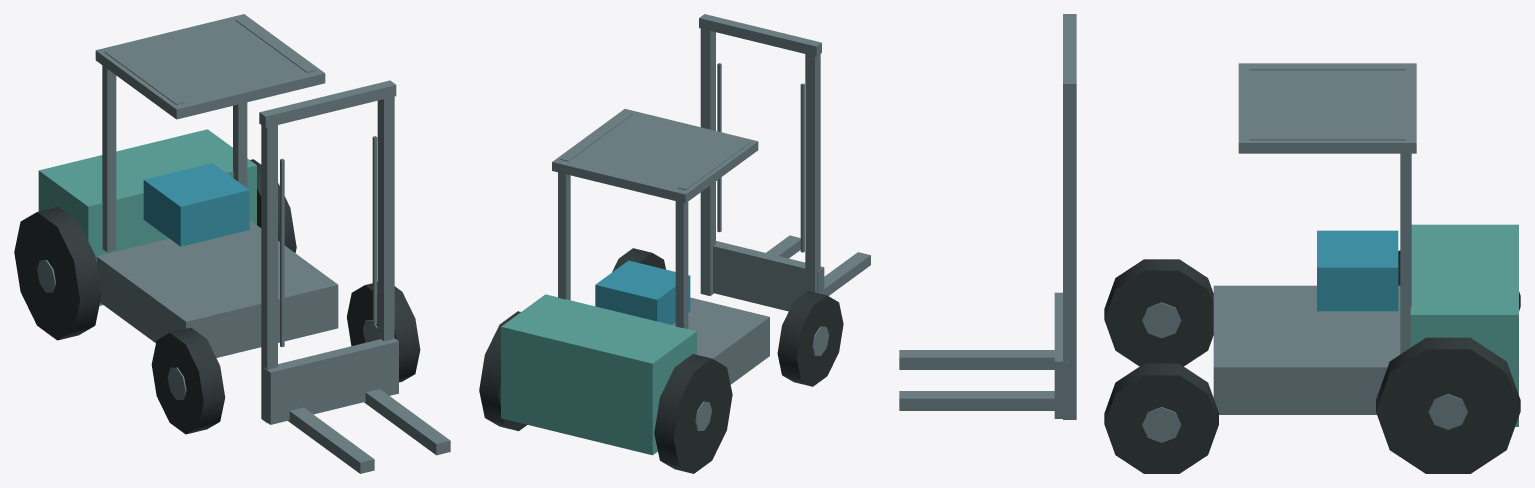
The model's file is forklift.source.glb.
3 renders of one model, left to right at view 1: azimuth 30°, elevation 25°; view 2: azimuth 150°, elevation 25°; view 3: azimuth 270°, elevation 25°, orthographic. The views are drawn at different scales.
Parts seen in each view (by area): view 1: forklift-body-mesh, forklift-tire-mesh (×4), forklift-guard-roof-mesh, forklift-counterweight-mesh, forklift-carriage-bar-mesh, forklift-operator-seat-mesh, forklift-mast-rail-0.49-mesh, forklift-mast-rail--0.49-mesh, forklift-guard-post--0.55-mesh, forklift-mast-crossbar-mesh, forklift-fork-0.32-mesh, forklift-fork--0.32-mesh (+6 smaller); view 2: forklift-counterweight-mesh, forklift-tire-mesh (×4), forklift-guard-roof-mesh, forklift-carriage-bar-mesh, forklift-body-mesh, forklift-operator-seat-mesh, forklift-mast-rail--0.49-mesh, forklift-mast-rail-0.49-mesh, forklift-mast-crossbar-mesh, forklift-guard-post--0.55-mesh, forklift-guard-post-0.55-mesh, forklift-fork--0.32-mesh (+5 smaller); view 3: forklift-tire-mesh (×3), forklift-body-mesh, forklift-guard-roof-mesh, forklift-counterweight-mesh, forklift-operator-seat-mesh, forklift-mast-rail-0.49-mesh, forklift-hub-mesh (×3), forklift-fork--0.32-mesh, forklift-fork-0.32-mesh, forklift-guard-post-0.55-mesh, forklift-carriage-bar-mesh, forklift-mast-crossbar-mesh (+2 smaller).
Part boxes in pixels (x1,y1,x2,y2): forklift-body-mesh: (96,220,338,357); forklift-tire-mesh (×4): (14,159,420,434); forklift-guard-roof-mesh: (95,14,325,119); forklift-counterweight-mesh: (38,129,256,305); forklift-carriage-bar-mesh: (263,338,398,424); forklift-operator-seat-mesh: (143,163,249,246); forklift-mast-rail-0.49-mesh: (377,91,394,341); forklift-mast-rail--0.49-mesh: (261,120,277,423); forklift-guard-post--0.55-mesh: (102,65,116,252); forklift-mast-crossbar-mesh: (259,80,396,127); forklift-fork-0.32-mesh: (364,389,450,455); forklift-fork--0.32-mesh: (288,407,374,473); forklift-counterweight-mesh: (501,294,696,455); forklift-tire-mesh (×4): (479,248,843,473); forklift-guard-roof-mesh: (552,109,758,203); forklift-carriage-bar-mesh: (713,241,824,311); forklift-body-mesh: (672,297,769,384); forklift-operator-seat-mesh: (595,260,690,324); forklift-mast-rail--0.49-mesh: (805,54,820,292); forklift-mast-rail-0.49-mesh: (700,23,715,295); forklift-mast-crossbar-mesh: (699,14,821,56); forklift-guard-post--0.55-mesh: (675,201,688,328); forklift-guard-post-0.55-mesh: (558,172,570,300); forklift-fork--0.32-mesh: (824,252,870,295); forklift-tire-mesh (×3): (1104,259,1520,473); forklift-body-mesh: (1213,285,1400,414); forklift-guard-roof-mesh: (1238,63,1416,153); forklift-counterweight-mesh: (1410,224,1518,426); forklift-operator-seat-mesh: (1317,230,1398,311); forklift-mast-rail-0.49-mesh: (1063,96,1076,419); forklift-hub-mesh (×3): (1142,302,1467,442); forklift-fork--0.32-mesh: (899,350,1054,369); forklift-fork-0.32-mesh: (899,391,1054,410); forklift-guard-post-0.55-mesh: (1400,153,1411,354); forklift-carriage-bar-mesh: (1054,292,1069,418); forklift-mast-crossbar-mesh: (1063,14,1076,96).
Bounding box in the file's own units: 1.84 × 2.68 × 4.12.
